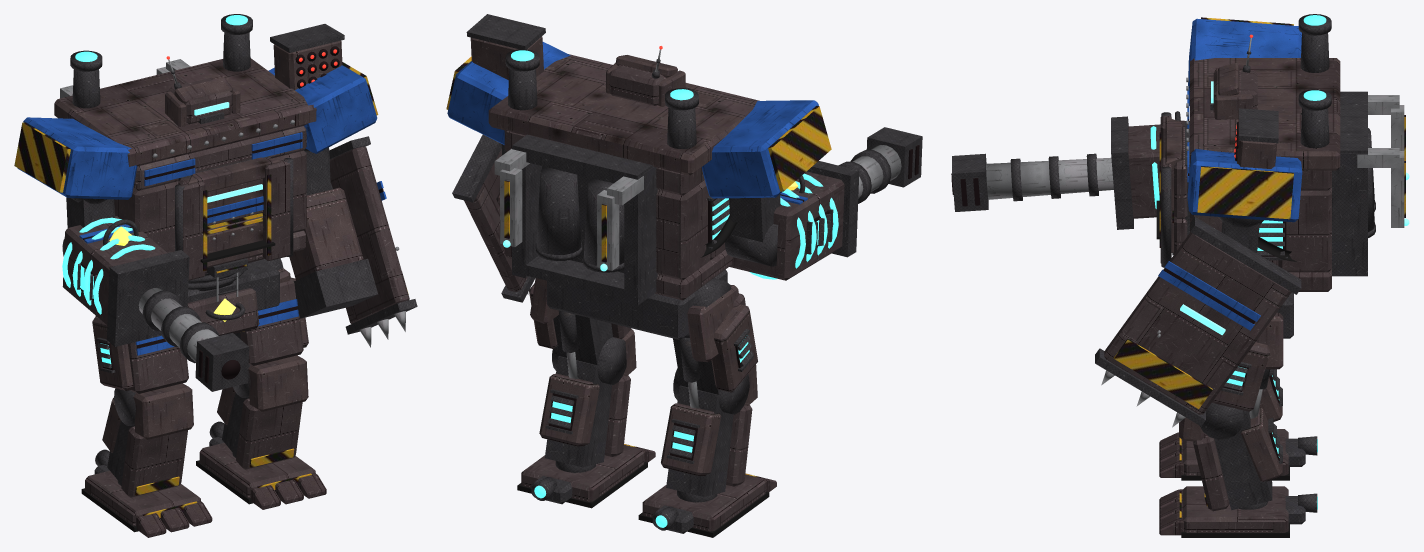
File: mech_warden.glb
The picture shows the model from 3 angles, left to right: view 1: azimuth 30°, elevation 25°; view 2: azimuth 150°, elevation 25°; view 3: azimuth 270°, elevation 25°; orthographic projection. The views are drawn at different scales.
Parts seen in each view (by area): view 1: cockpit_warden_armor2, cockpit_warden_armor, hand_L_warden_armor, forearm_R_warden_frame, shoulder_R_warden_livery, shoulder_L_warden_livery, forearm_L_warden_armor2, forearm_L_warden_frame, shin_R_warden_armor2, shin_L_warden_armor2, shin_L_warden_armor, shin_R_warden_armor (+38 smaller); view 2: cockpit_warden_armor2, torso_warden_frame, torso_warden_dark, cockpit_warden_armor, shoulder_R_warden_livery, pelvis_warden_frame, forearm_R_warden_armor, shoulder_L_warden_livery, shin_L_warden_frame, shin_R_warden_frame, foot_R_warden_armor, foot_L_warden_armor (+33 smaller); view 3: hand_L_warden_armor, cockpit_warden_armor2, torso_warden_frame, cockpit_warden_armor, shoulder_L_warden_hazard, shoulder_R_warden_livery, hand_R_warden_metal, foot_L_warden_armor, hand_L_warden_frame, shin_L_warden_frame, torso_warden_dark, shoulder_L_warden_livery (+26 smaller).
Part boxes in pixels (x1=…): cockpit_warden_armor2: x1=54, y1=58, x2=316, y2=166; cockpit_warden_armor: x1=114, y1=126, x2=306, y2=273; hand_L_warden_armor: x1=329, y1=146, x2=409, y2=323; forearm_R_warden_frame: x1=73, y1=219, x2=189, y2=346; shoulder_R_warden_livery: x1=17, y1=117, x2=137, y2=199; shoulder_L_warden_livery: x1=268, y1=65, x2=377, y2=153; forearm_L_warden_armor2: x1=289, y1=187, x2=363, y2=280; forearm_L_warden_frame: x1=293, y1=258, x2=377, y2=318; shin_R_warden_armor2: x1=102, y1=383, x2=193, y2=452; shin_L_warden_armor2: x1=217, y1=355, x2=308, y2=424; shin_L_warden_armor: x1=236, y1=398, x2=302, y2=469; shin_R_warden_armor: x1=121, y1=426, x2=187, y2=497; cockpit_warden_armor2: x1=488, y1=54, x2=759, y2=175; torso_warden_frame: x1=505, y1=49, x2=698, y2=305; torso_warden_dark: x1=508, y1=69, x2=696, y2=302; cockpit_warden_armor: x1=504, y1=130, x2=732, y2=300; shoulder_R_warden_livery: x1=702, y1=100, x2=818, y2=198; pelvis_warden_frame: x1=547, y1=269, x2=727, y2=339; forearm_R_warden_armor: x1=729, y1=171, x2=844, y2=280; shoulder_L_warden_livery: x1=447, y1=42, x2=570, y2=144; shin_L_warden_frame: x1=544, y1=356, x2=612, y2=467; shin_R_warden_frame: x1=666, y1=385, x2=733, y2=496; foot_R_warden_armor: x1=642, y1=474, x2=765, y2=531; foot_L_warden_armor: x1=521, y1=444, x2=643, y2=501; hand_L_warden_armor: x1=1104, y1=232, x2=1291, y2=414; cockpit_warden_armor2: x1=1190, y1=58, x2=1340, y2=170; torso_warden_frame: x1=1298, y1=14, x2=1375, y2=276; cockpit_warden_armor: x1=1190, y1=170, x2=1331, y2=291; shoulder_L_warden_hazard: x1=1197, y1=166, x2=1293, y2=219; shoulder_R_warden_livery: x1=1188, y1=18, x2=1301, y2=105; hand_R_warden_metal: x1=986, y1=157, x2=1113, y2=199; foot_L_warden_armor: x1=1182, y1=486, x2=1288, y2=532; hand_L_warden_frame: x1=1095, y1=217, x2=1301, y2=426; shin_L_warden_frame: x1=1214, y1=410, x2=1282, y2=510; torso_warden_dark: x1=1300, y1=33, x2=1374, y2=232; shoulder_L_warden_livery: x1=1187, y1=148, x2=1302, y2=222.
Bounding box in the file's own units: 9.64 × 12.5 × 11.66.
13 materials, 7 textured.
